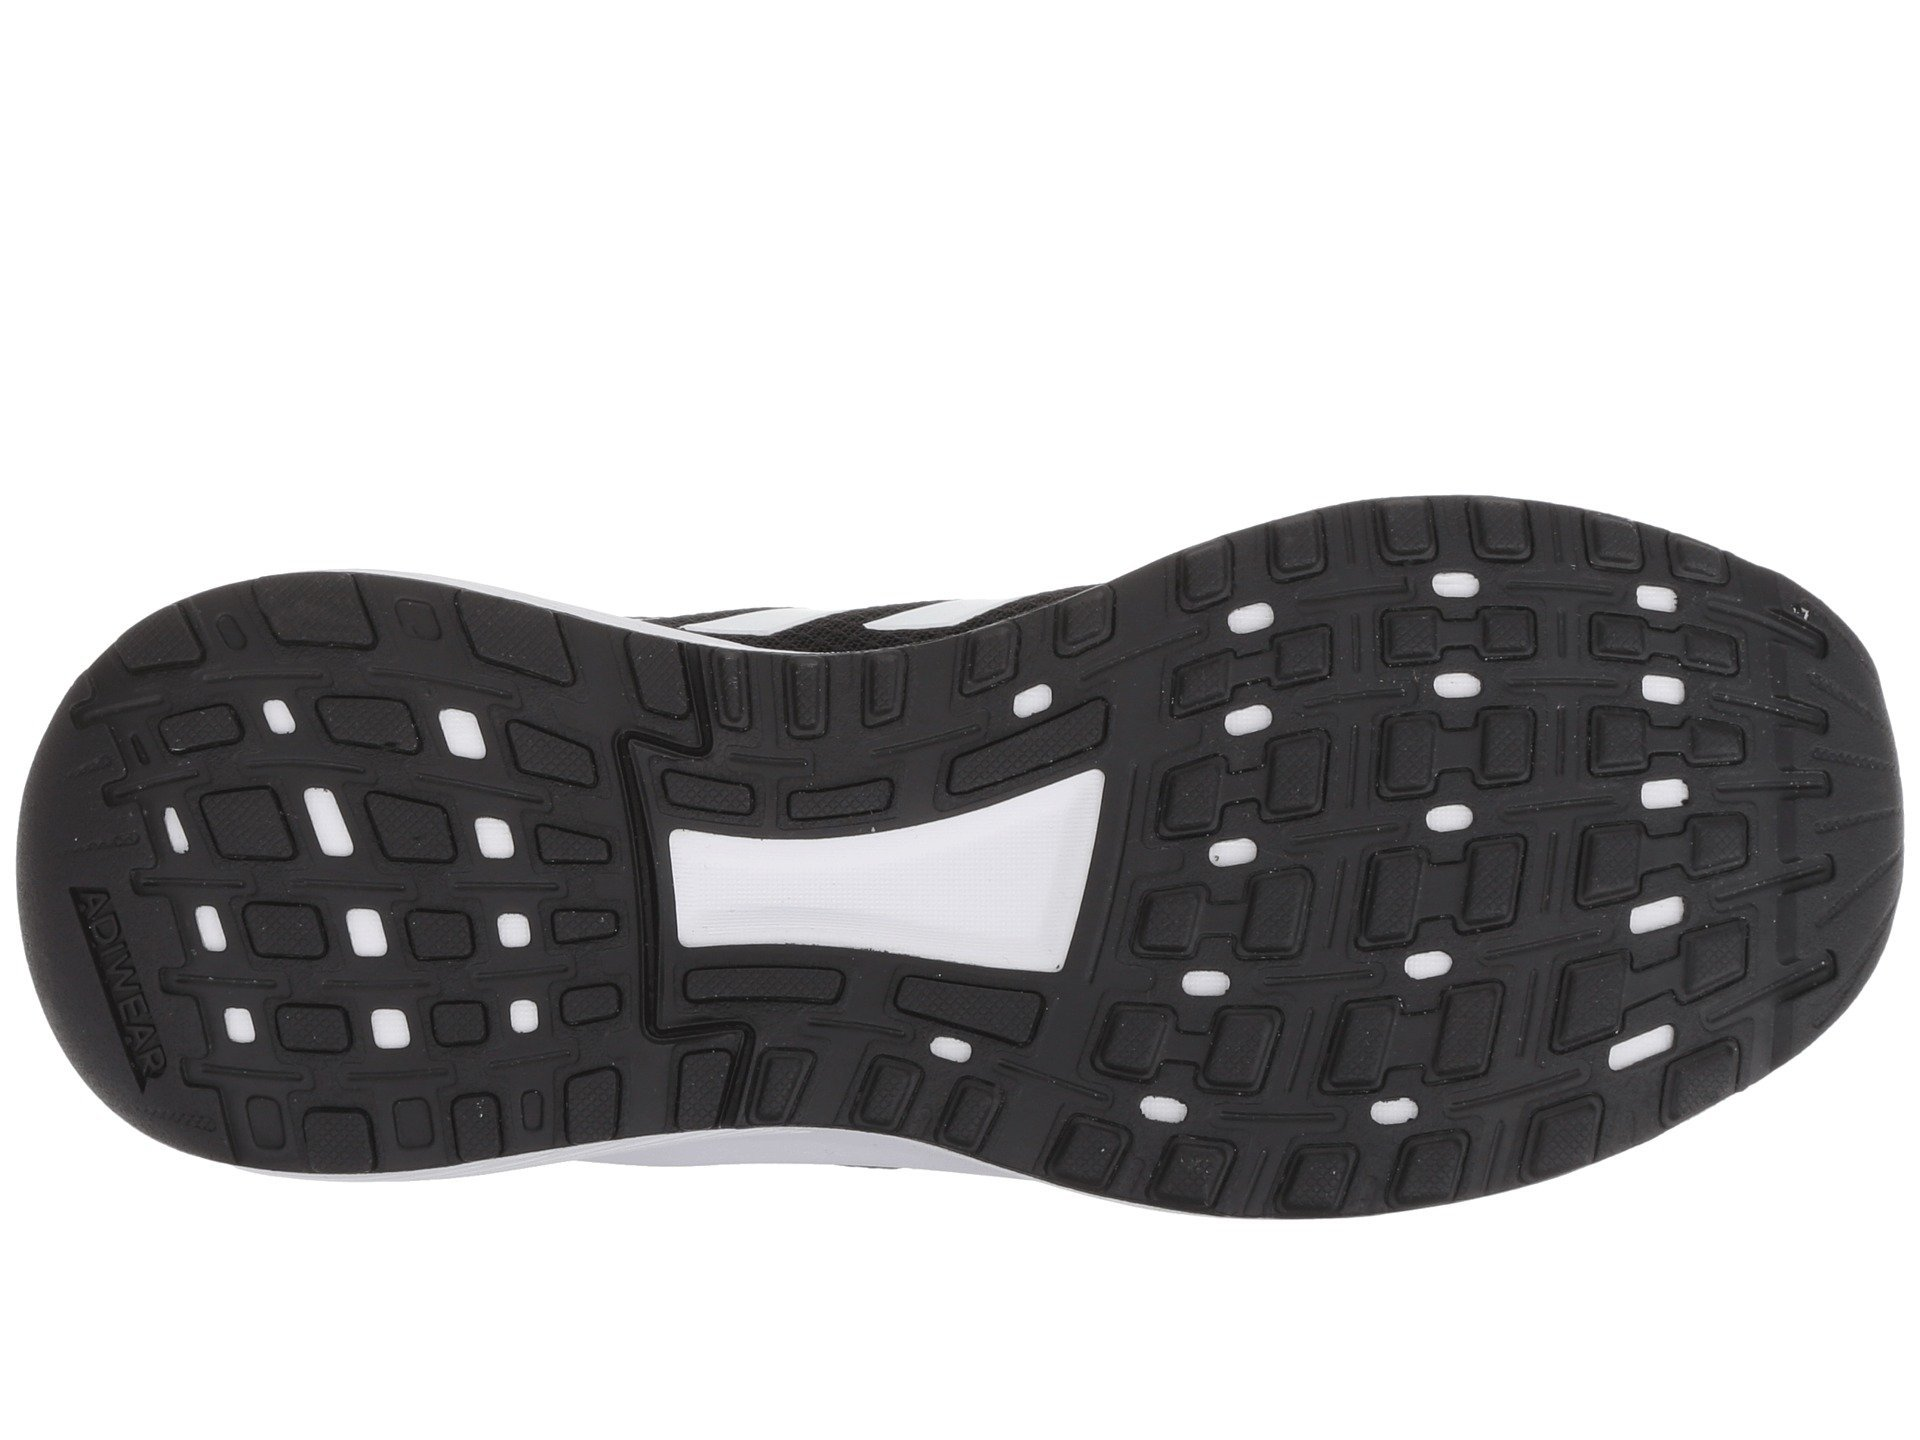line: (1200, 538, 1761, 1101), (239, 588, 585, 1092), (33, 835, 195, 1110), (1799, 611, 1900, 959)
quad: (1200, 538, 1761, 1101), (239, 588, 585, 1092), (649, 731, 1092, 1041)
text: (33, 835, 195, 1110)
